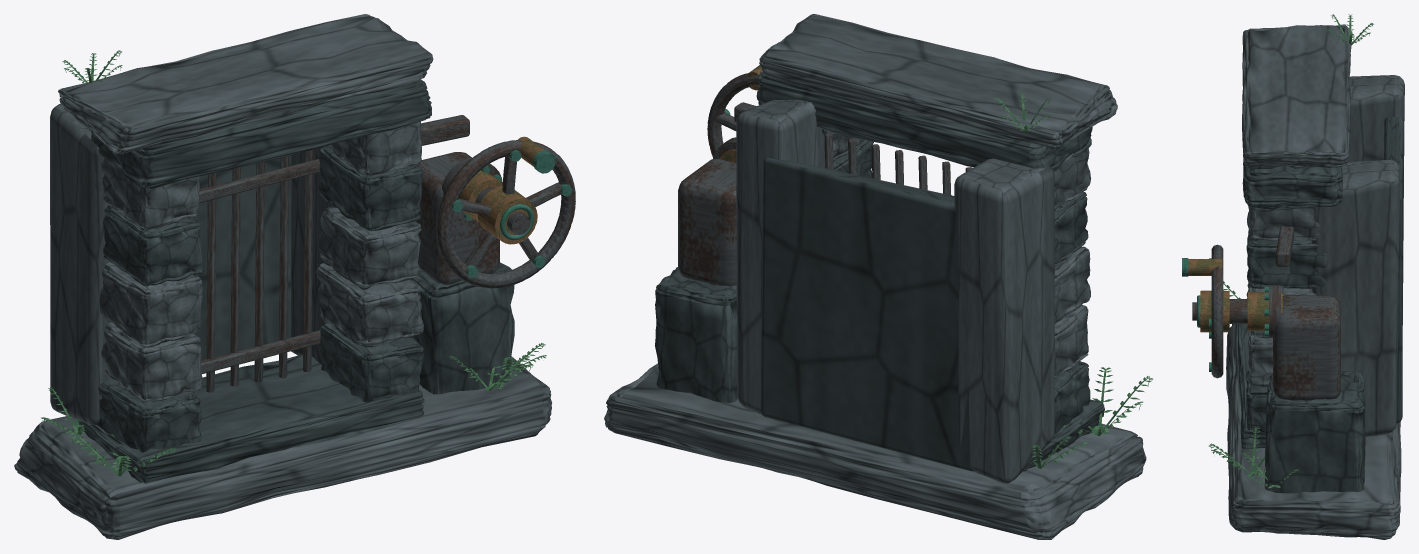
The model's file is fern_basin_handwheel.glb.
The picture shows the model from 3 angles, left to right: view 1: azimuth 30°, elevation 25°; view 2: azimuth 150°, elevation 25°; view 3: azimuth 270°, elevation 25°; orthographic projection. The views are drawn at different scales.
Parts seen in each view (by area): view 1: Apron stone, Basalt cap, Damp inlet sill, Return wall left, Wet lintel, Shadow behind intake, Wheel mounting pedestal, Ashlar right 2, Ashlar left 3, Ashlar right 3, Ashlar right 4, Ashlar left 4 (+19 smaller); view 2: Shadow behind intake, Apron stone, Return wall left, Basalt cap, Return wall right, Wet lintel, Wheel mounting pedestal, Wheel valve body, Ashlar left 3, Curled fern clusters, Ashlar left 1, Ashlar left 2 (+5 smaller); view 3: Return wall right, Basalt cap, Apron stone, Wheel mounting pedestal, Wheel valve body, Return wall left, Wet lintel, Ashlar right 4, Shadow behind intake, Ashlar right 5, Cast iron wheel rim, Damp inlet sill (+10 smaller).
Part boxes in pixels (<box>): Apron stone: <box>14,356,551,539</box>; Basalt cap: <box>58,14,433,154</box>; Damp inlet sill: <box>78,354,424,483</box>; Return wall left: <box>50,103,113,425</box>; Wet lintel: <box>91,80,431,188</box>; Shadow behind intake: <box>194,155,291,360</box>; Wheel mounting pedestal: <box>410,262,514,394</box>; Ashlar right 2: <box>316,263,423,347</box>; Ashlar left 3: <box>100,262,202,347</box>; Ashlar right 3: <box>318,207,421,289</box>; Ashlar right 4: <box>318,146,422,231</box>; Ashlar left 4: <box>102,204,203,286</box>; Shadow behind intake: <box>760,158,973,471</box>; Apron stone: <box>604,363,1146,539</box>; Return wall left: <box>954,158,1054,483</box>; Basalt cap: <box>759,14,1117,149</box>; Return wall right: <box>736,99,825,422</box>; Wet lintel: <box>756,72,1092,170</box>; Wheel mounting pedestal: <box>655,267,737,402</box>; Wheel valve body: <box>678,158,736,285</box>; Ashlar left 3: <box>1054,246,1090,323</box>; Curled fern clusters: <box>994,92,1152,468</box>; Ashlar left 1: <box>1054,361,1090,434</box>; Ashlar left 2: <box>1054,305,1088,377</box>; Return wall right: <box>1311,159,1400,436</box>; Basalt cap: <box>1242,24,1352,168</box>; Apron stone: <box>1226,324,1401,539</box>; Wheel mounting pedestal: <box>1264,370,1365,493</box>; Wheel valve body: <box>1273,295,1340,400</box>; Return wall left: <box>1348,75,1404,324</box>; Wet lintel: <box>1242,154,1342,209</box>; Ashlar right 4: <box>1246,223,1327,288</box>; Shadow behind intake: <box>1384,116,1403,423</box>; Ashlar right 5: <box>1248,207,1321,241</box>; Cast iron wheel rim: <box>1211,244,1223,378</box>; Damp inlet sill: <box>1237,324,1365,449</box>.
Size of the model in its own units: 2.4 by 2.02 by 1.15.
Materials: 7 (7 with a texture image).
